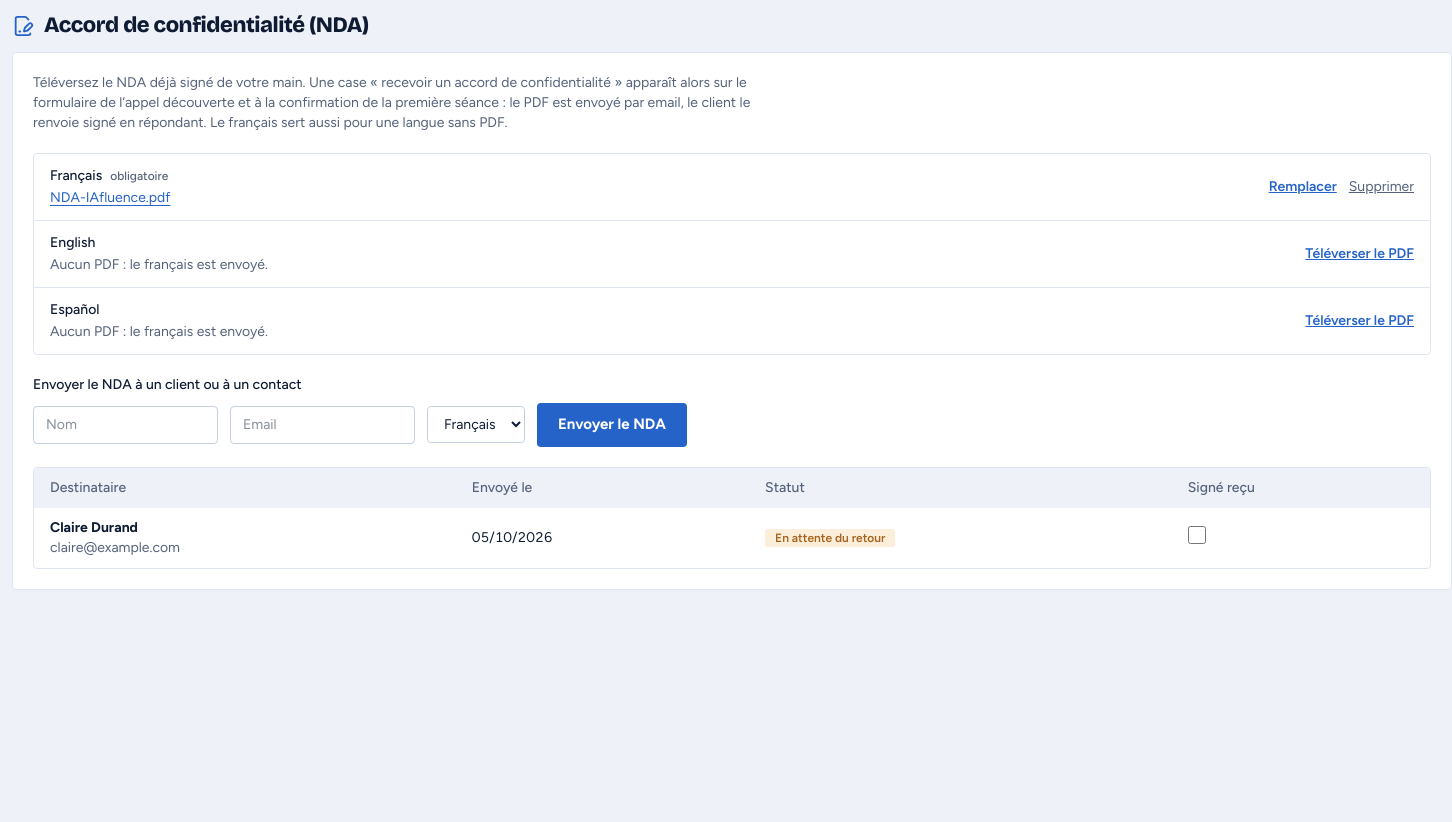
Test: NdaAgreement › deletes the PDF of a language
Expected: the link "NDA-IAfluence.pdf" is shown, [50,188,170,206]
Click the button "Supprimer".
click(1381, 186)  # box [1349,176,1414,196]
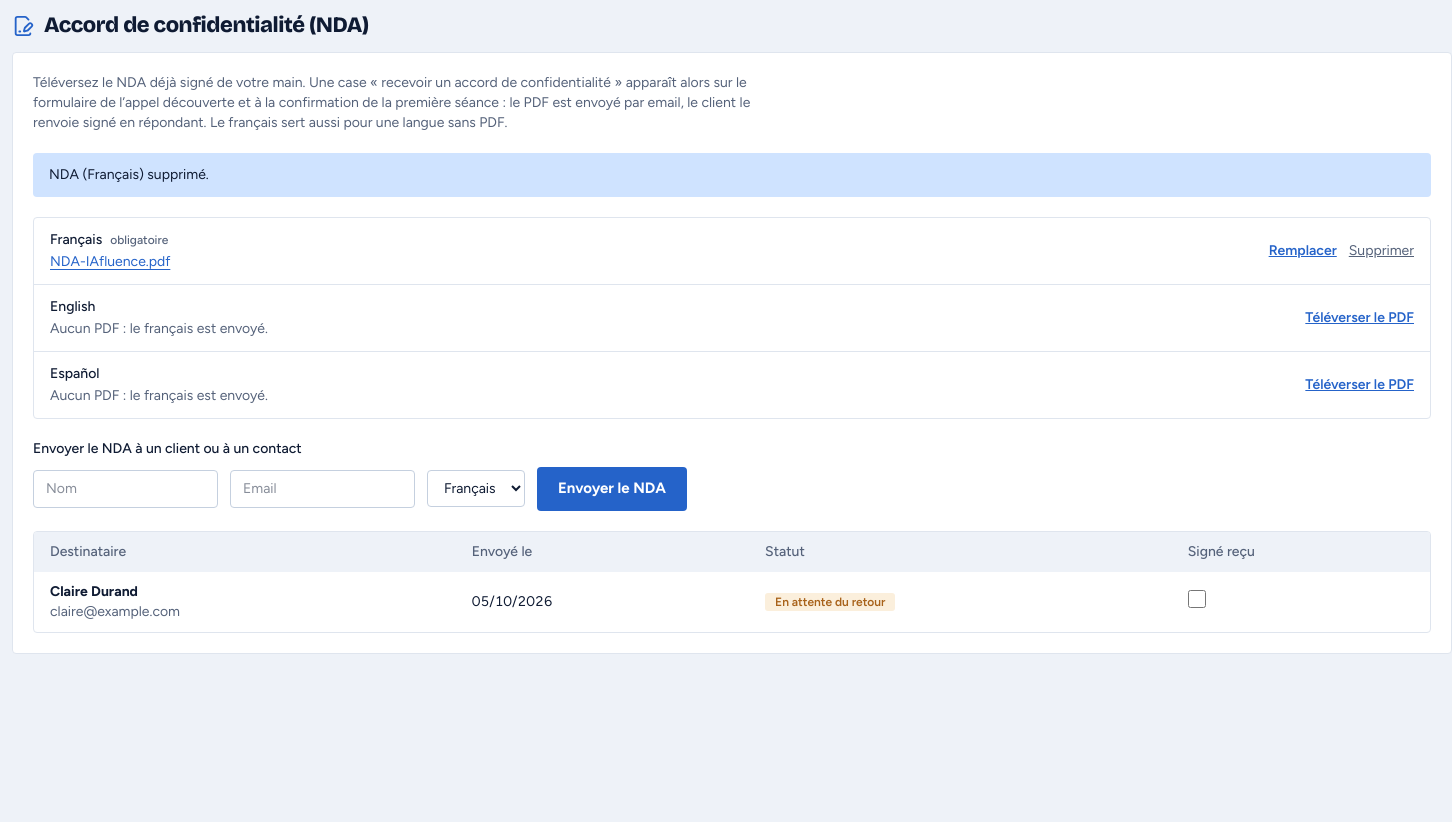
Expected: the message reads "NDA (Français) supprimé.", [49,166,209,182]
